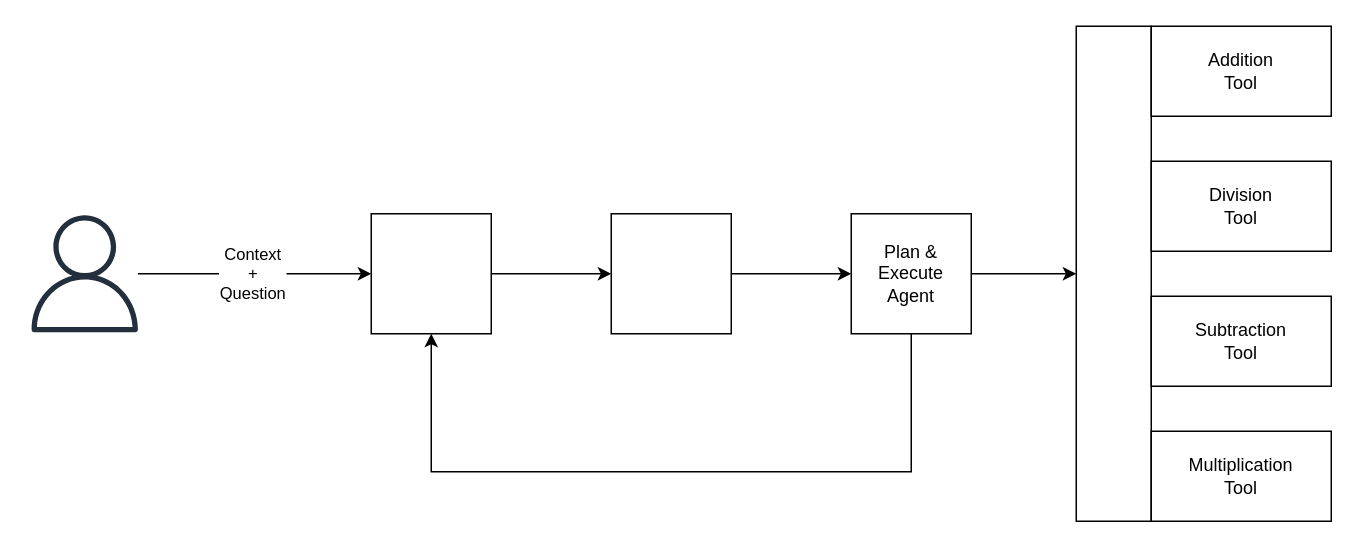
The diagram is 1358 pixels wide and 548 high, and some of its shapes have lost their labels. The shapes that lost their labels are listed below. From the top down, each one's box as (x1, y1, x2, y2) in pixels, then its label:
(370, 212, 491, 334): Chainlit Interface
(610, 212, 731, 334): Formula Extraction LLM
(1075, 25, 1151, 521): MCP
